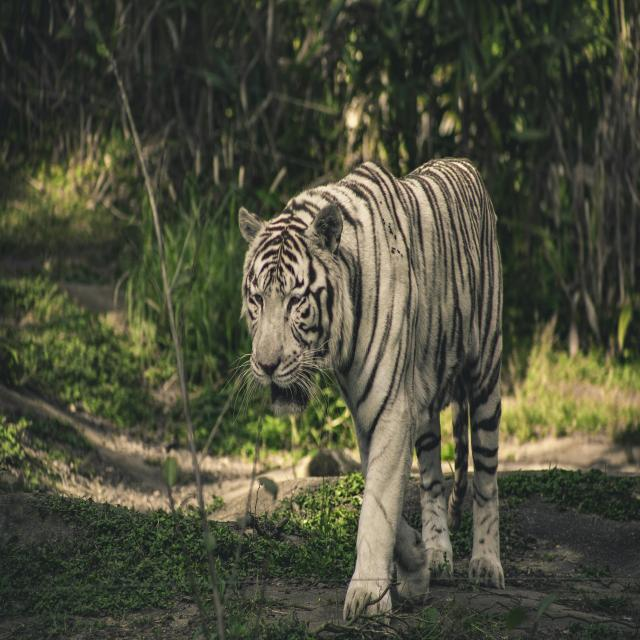Tiger: (239, 158, 506, 617)
